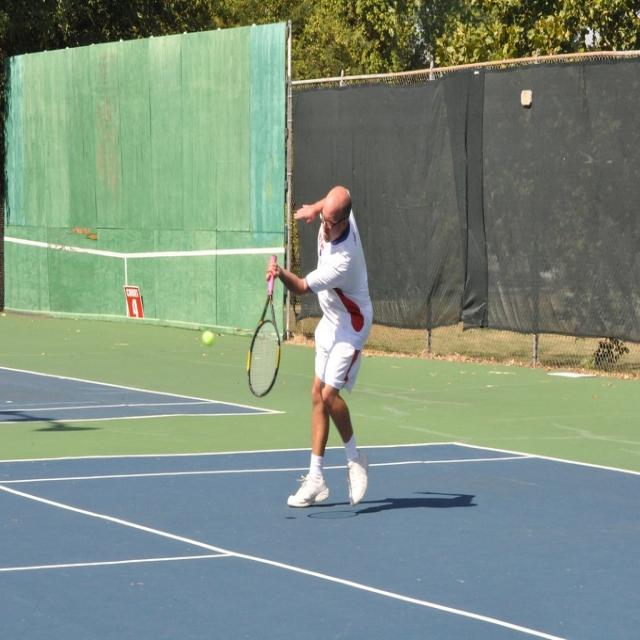ball: (201, 330, 214, 346)
